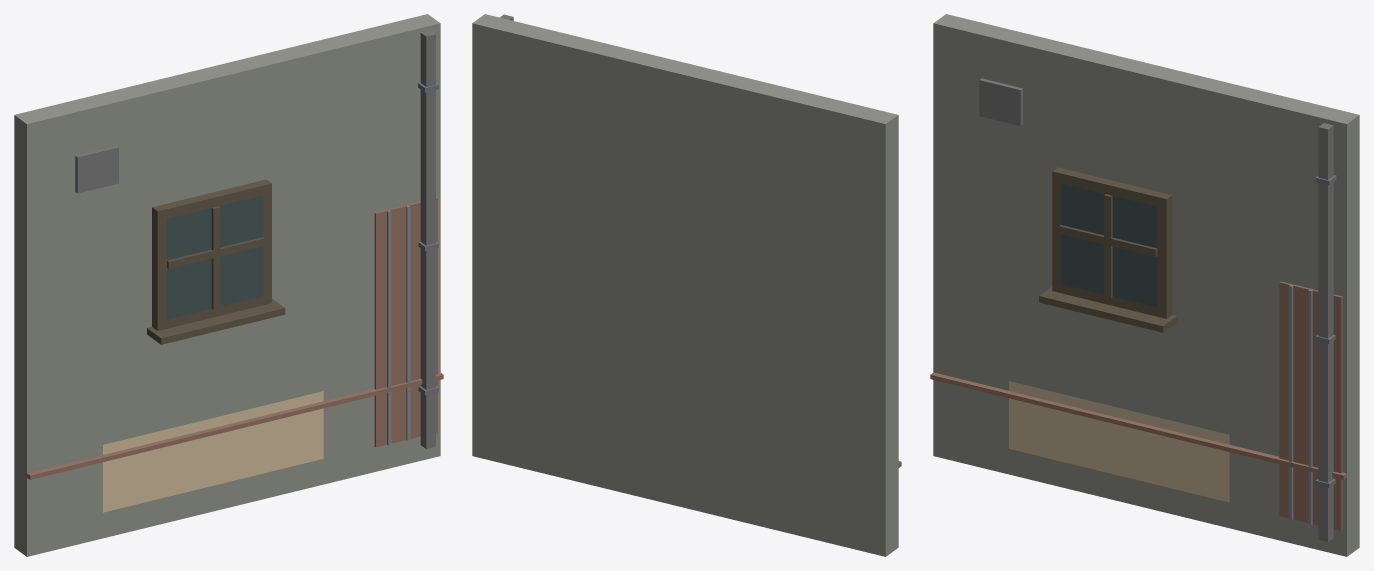
File: mid-w1_close.fbx
The picture shows the model from 3 angles, left to right: view 1: azimuth 30°, elevation 25°; view 2: azimuth 150°, elevation 25°; view 3: azimuth 330°, elevation 25°; orthographic projection.
Parts seen in each view (by area): view 1: a2015/500/mid-w1_close; view 2: a2015/500/mid-w1_close; view 3: a2015/500/mid-w1_close.
Part boxes in pixels (x1,y1,x2,y2): a2015/500/mid-w1_close: (14, 14, 443, 556); a2015/500/mid-w1_close: (472, 14, 901, 556); a2015/500/mid-w1_close: (930, 14, 1359, 556).
Size of the model in its own units: 3 by 3 by 0.34.
